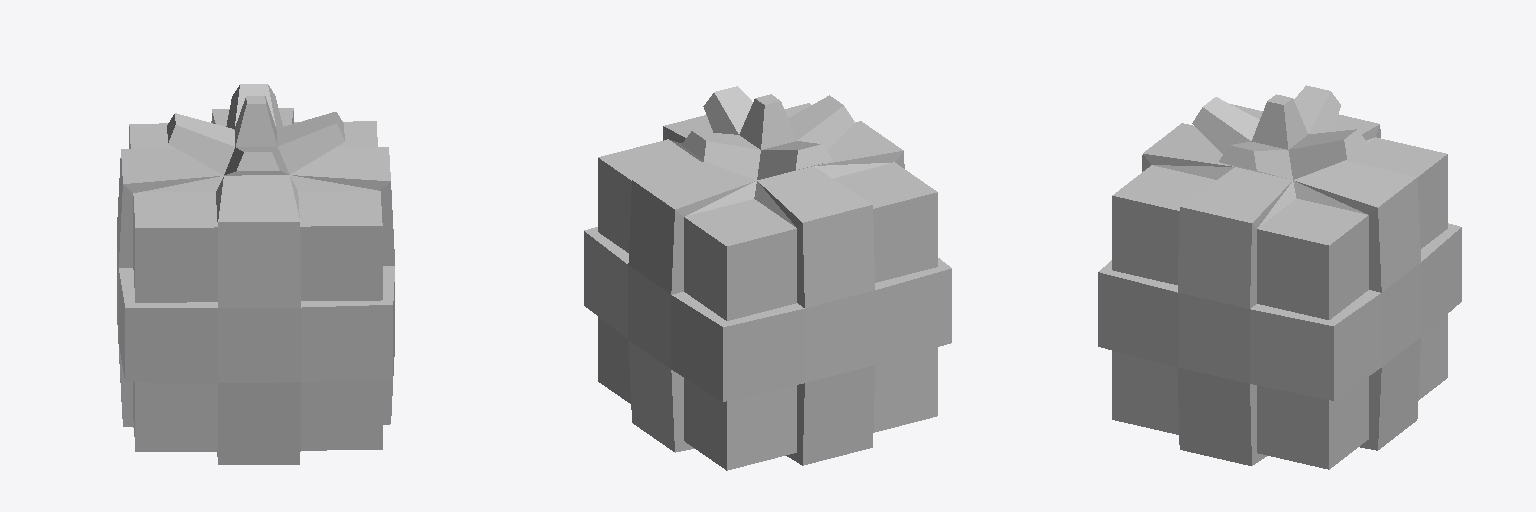
The model's file is Gift-Green.obj.
The picture shows the model from 3 angles: view 1: azimuth 30°, elevation 25°; view 2: azimuth 150°, elevation 25°; view 3: azimuth 270°, elevation 25°; orthographic projection.
Parts seen in each view (by area): view 1: Cube; view 2: Cube; view 3: Cube.
Boxes of the visible parts, x1=… form: Cube: x1=117, y1=84, x2=394, y2=464; Cube: x1=584, y1=86, x2=951, y2=470; Cube: x1=1098, y1=85, x2=1461, y2=469.
Size of the model in its own units: 2.94 by 2.79 by 2.94.